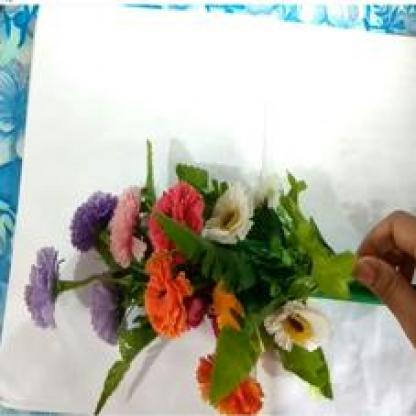flower: (2, 107, 334, 408)
